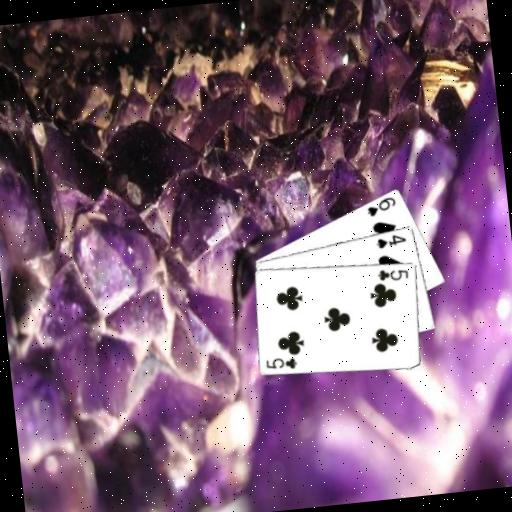4S: (373, 231, 409, 251)
5C: (263, 353, 300, 374), (374, 264, 411, 284)
6S: (363, 193, 399, 218)
